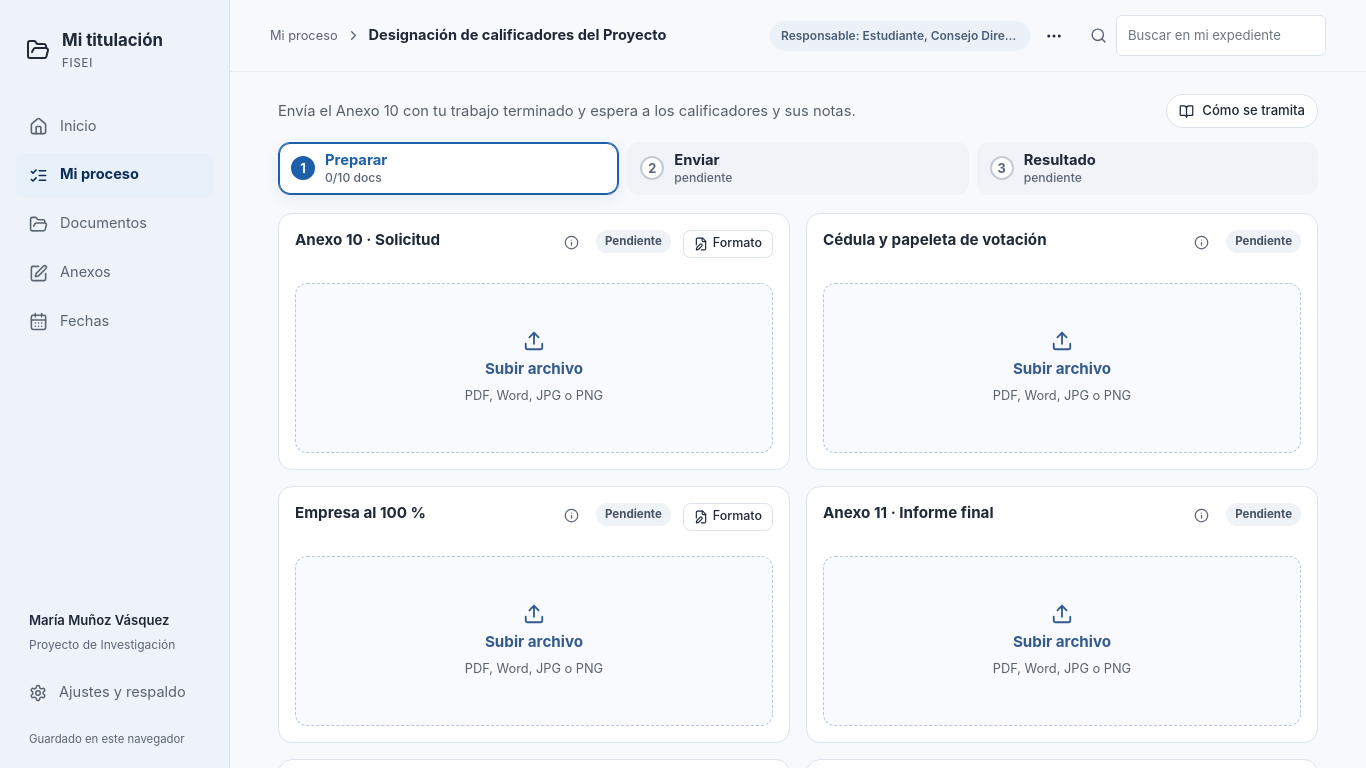
Test: fills the company compliance letter from the company data in the profile
This screenshot has width=1366, height=768.
Check: the button "Cómo se tramita" is shown, box top-left (1166, 94), bottom-right (1318, 128)
Click the button "Formato" in the row of "Empresa al 100 %".
click(728, 517)  # box top-left (683, 503), bottom-right (773, 531)
(page scrolled)
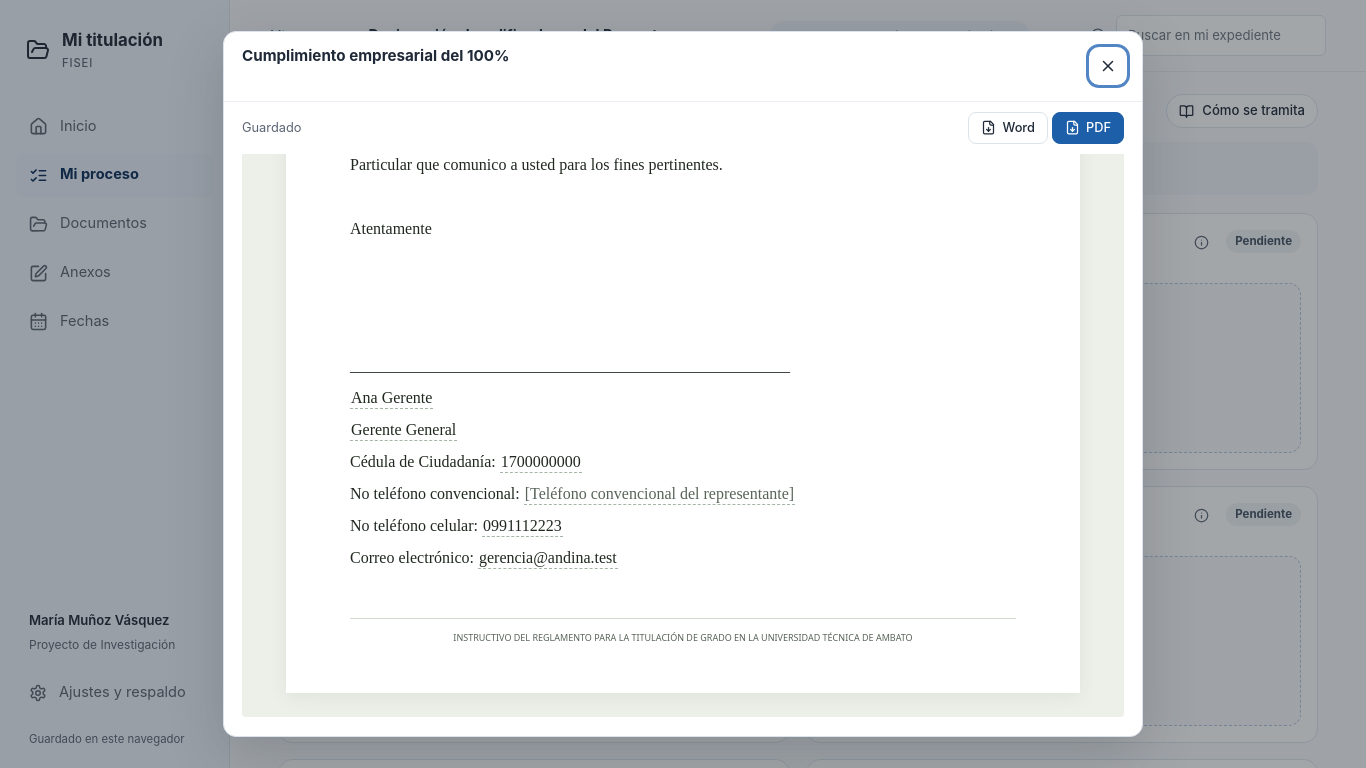
Check: the field named "Celular del representante" reads "0991112223", box top-left (483, 517), bottom-right (562, 534)
